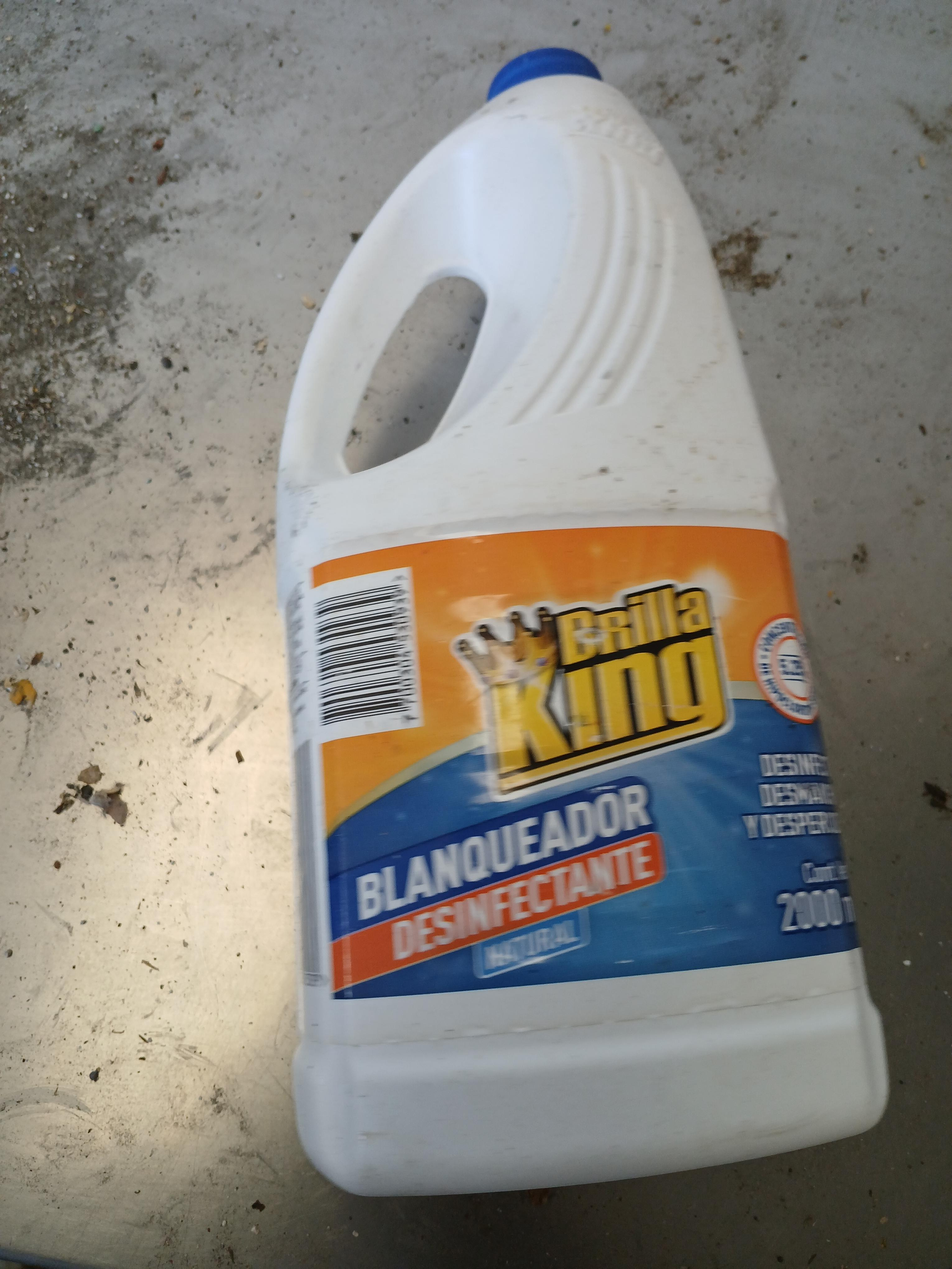Plastico: (276, 46, 889, 1198)
